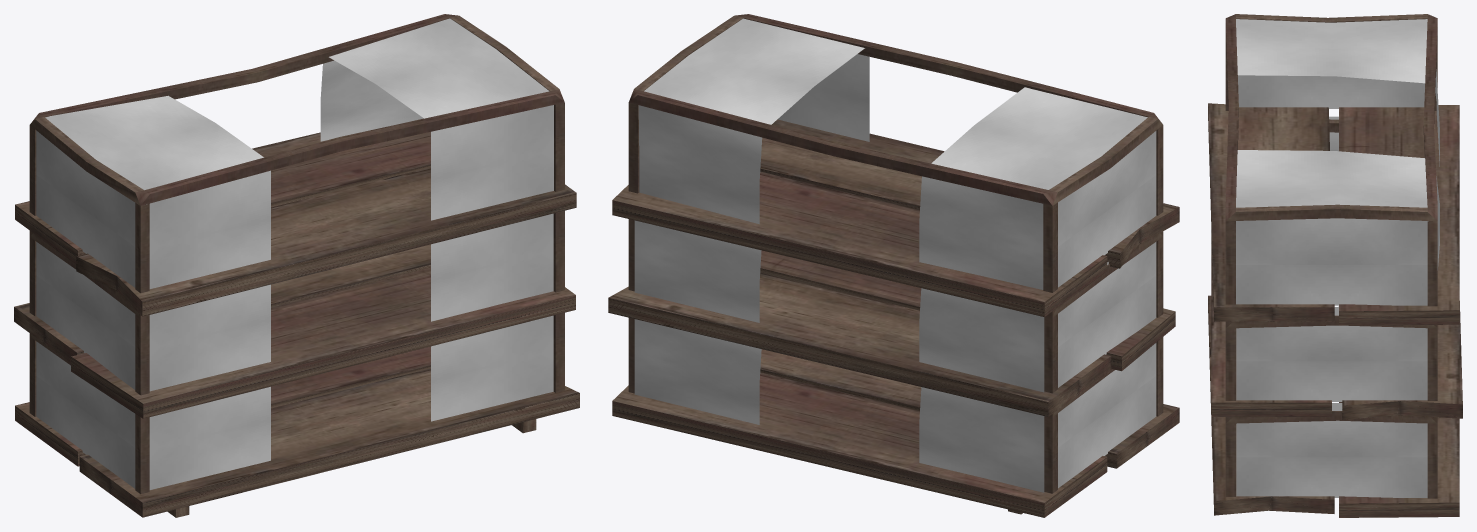
The model's file is cabinet_jeweler_shanty_caseShort.fbx.
3 renders of one model, left to right at view 1: azimuth 30°, elevation 25°; view 2: azimuth 150°, elevation 25°; view 3: azimuth 270°, elevation 25°, orthographic. The views are drawn at different scales.
Parts seen in each view (by area): view 1: cabinet_glass, cabinet_glass3, cabinet_glass4, cabinet_tabletop3, cabinet_tabletop6, cabinet_tabletop2, cabinet_glassFrame, cabinet_tabletop1, cabinet_tabletop4, cabinet_tabletop5, cabinet_glassFrame1, cabinet_glassFrame2; view 2: cabinet_glass, cabinet_glass4, cabinet_glass3, cabinet_tabletop1, cabinet_tabletop5, cabinet_tabletop4, cabinet_glassFrame, cabinet_tabletop2, cabinet_tabletop6, cabinet_tabletop3, cabinet_glassFrame1, cabinet_glassFrame2 (+1 smaller); view 3: cabinet_glass, cabinet_glass4, cabinet_glass3, cabinet_tabletop1, cabinet_glassFrame, cabinet_tabletop2, cabinet_tabletop5, cabinet_tabletop4, cabinet_tabletop6, cabinet_tabletop3, cabinet_glassFrame2, cabinet_glassFrame1 (+2 smaller).
Part boxes in pixels (left/top/right/bottom): cabinet_glass: left=36, top=18, right=553, bottom=288; cabinet_glass3: left=36, top=213, right=553, bottom=391; cabinet_glass4: left=36, top=315, right=553, bottom=489; cabinet_tabletop3: left=71, top=269, right=575, bottom=418; cabinet_tabletop6: left=79, top=368, right=579, bottom=517; cabinet_tabletop2: left=76, top=167, right=576, bottom=316; cabinet_glassFrame: left=29, top=14, right=564, bottom=293; cabinet_tabletop1: left=15, top=119, right=430, bottom=263; cabinet_tabletop4: left=14, top=244, right=430, bottom=362; cabinet_tabletop5: left=15, top=346, right=430, bottom=466; cabinet_glassFrame1: left=29, top=210, right=564, bottom=395; cabinet_glassFrame2: left=29, top=312, right=564, bottom=494; cabinet_glass: left=638, top=18, right=1156, bottom=289; cabinet_glass4: left=634, top=319, right=1156, bottom=492; cabinet_glass3: left=634, top=220, right=1156, bottom=392; cabinet_tabletop1: left=612, top=171, right=1107, bottom=316; cabinet_tabletop5: left=612, top=372, right=1107, bottom=517; cabinet_tabletop4: left=608, top=273, right=1111, bottom=416; cabinet_glassFrame: left=628, top=14, right=1163, bottom=292; cabinet_tabletop2: left=760, top=119, right=1179, bottom=268; cabinet_tabletop6: left=760, top=349, right=1179, bottom=468; cabinet_tabletop3: left=760, top=250, right=1175, bottom=371; cabinet_glassFrame1: left=628, top=219, right=1163, bottom=393; cabinet_glassFrame2: left=628, top=318, right=1163, bottom=493; cabinet_glass: left=1236, top=19, right=1439, bottom=305; cabinet_glass4: left=1236, top=403, right=1427, bottom=497; cabinet_glass3: left=1236, top=116, right=1427, bottom=401; cabinet_tabletop1: left=1339, top=105, right=1459, bottom=325; cabinet_glassFrame: left=1225, top=14, right=1437, bottom=306; cabinet_tabletop2: left=1208, top=103, right=1334, bottom=321; cabinet_tabletop5: left=1339, top=402, right=1459, bottom=517; cabinet_tabletop4: left=1341, top=301, right=1462, bottom=419; cabinet_tabletop6: left=1208, top=295, right=1334, bottom=515; cabinet_tabletop3: left=1211, top=233, right=1331, bottom=416; cabinet_glassFrame2: left=1225, top=417, right=1437, bottom=498; cabinet_glassFrame1: left=1225, top=321, right=1437, bottom=400.
Bounding box in the file's own units: 578 × 403 × 295.
Materials: 2 (2 with a texture image).
